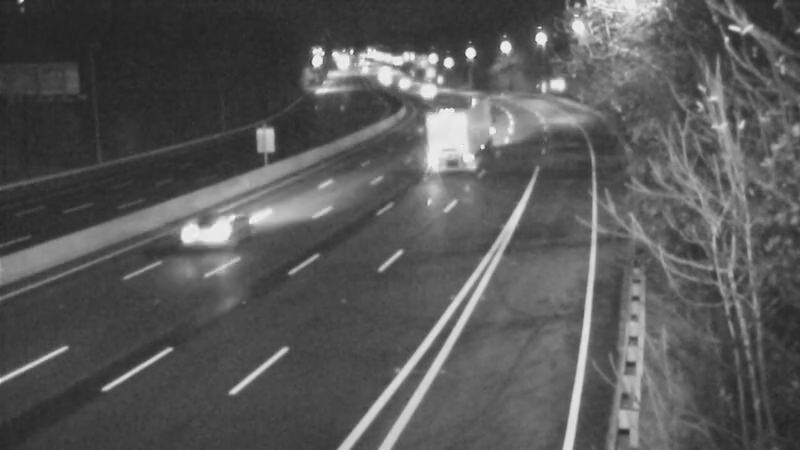vehicle: (176, 192, 256, 272), (376, 59, 426, 109), (397, 64, 447, 114), (437, 106, 487, 156)
